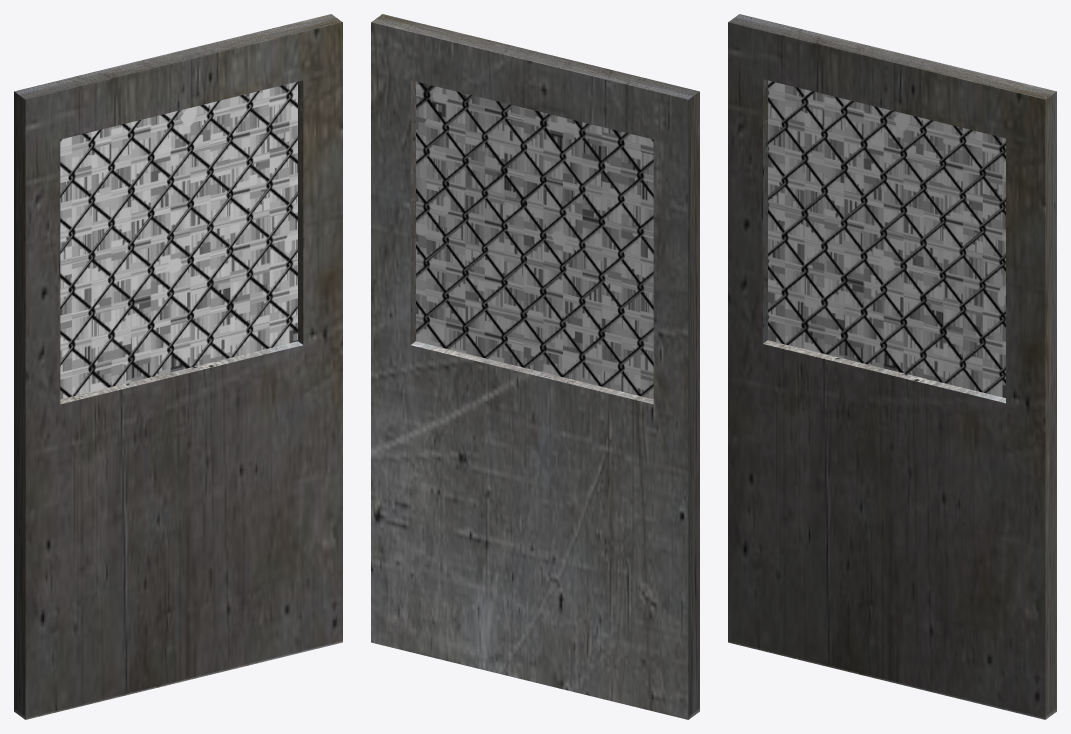
The model's file is basement door.fbx.
3 renders of one model, left to right at view 1: azimuth 30°, elevation 25°; view 2: azimuth 150°, elevation 25°; view 3: azimuth 330°, elevation 25°, orthographic.
Parts seen in each view (by area): view 1: pCube7, pCube4; view 2: pCube7, pCube4; view 3: pCube7, pCube4.
Part boxes in pixels (x1,y1,x2,y2): pCube7: [14, 14, 342, 719]; pCube4: [60, 81, 297, 399]; pCube7: [371, 14, 699, 719]; pCube4: [416, 81, 653, 399]; pCube7: [728, 14, 1056, 719]; pCube4: [768, 80, 1005, 397].
Bounding box in the file's own units: 2.53 × 4.73 × 0.1573.
Materials: 2 (2 with a texture image).
